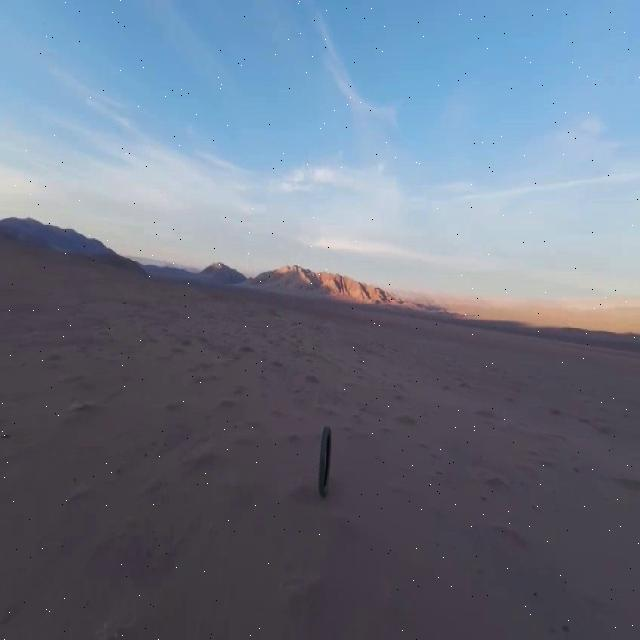Tire: (319, 426, 331, 497)
